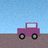vehicle: (17, 23, 39, 39)
